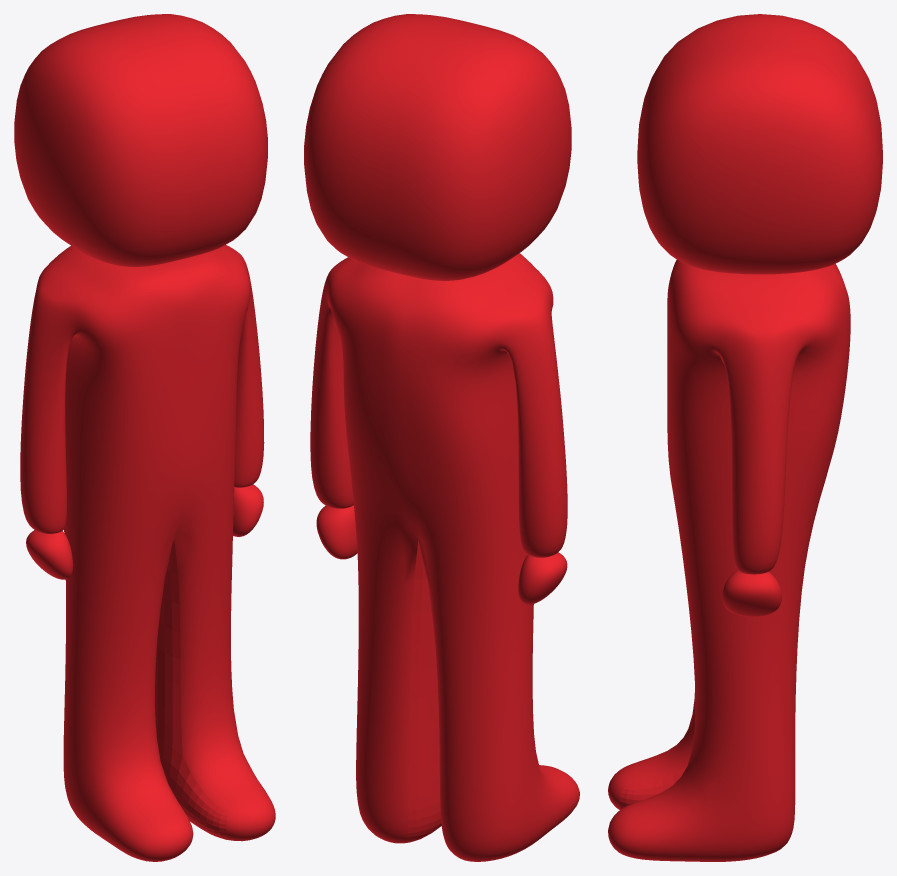
Rendered from karakter_kotu.fbx.
The picture shows the model from 3 angles, left to right: view 1: azimuth 30°, elevation 25°; view 2: azimuth 150°, elevation 25°; view 3: azimuth 270°, elevation 25°; orthographic projection. The views are drawn at different scales.
Visible parts, largest first — view 1: Cube; view 2: Cube; view 3: Cube.
Part boxes in pixels (left/top/right/bottom): Cube: left=14, top=14, right=275, bottom=861; Cube: left=304, top=14, right=579, bottom=861; Cube: left=608, top=14, right=882, bottom=861.
Bounding box in the file's own units: 303 × 947 × 296.
